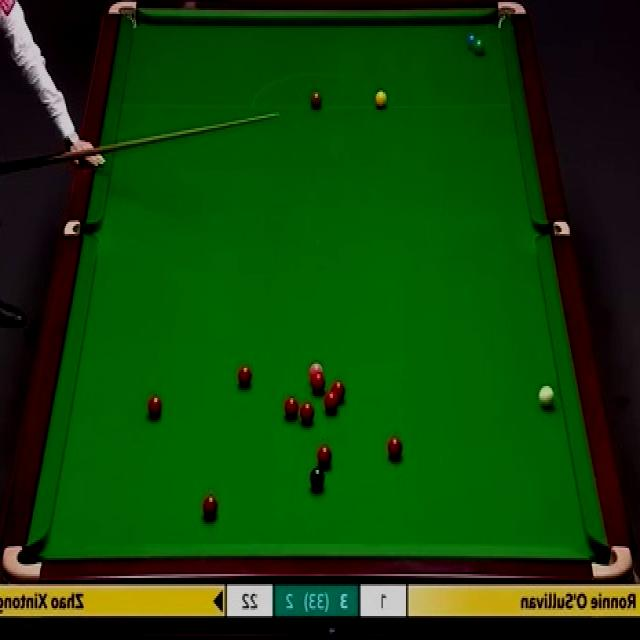pocket: (588, 542, 631, 582), (3, 543, 45, 582), (108, 0, 140, 32), (494, 0, 528, 29), (63, 218, 100, 237), (538, 221, 574, 234)
